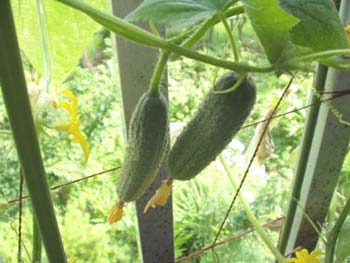cucumber: (169, 74, 255, 180), (116, 92, 170, 202)
